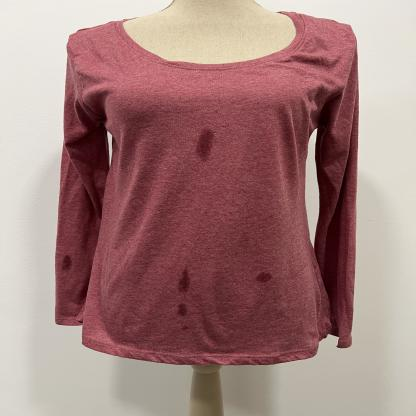stain: (194, 126, 219, 164), (174, 262, 194, 296), (251, 270, 277, 285), (59, 253, 74, 272), (174, 302, 190, 319), (180, 325, 191, 332)
